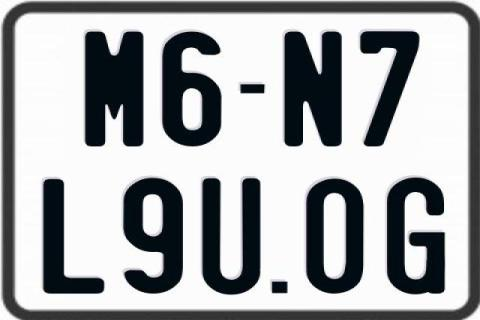0: (357, 32, 420, 152), (159, 29, 222, 148), (123, 176, 184, 294), (305, 178, 365, 296)
G: (387, 176, 450, 294)
L: (40, 177, 107, 295)
M: (82, 31, 143, 148)
N: (284, 29, 342, 149)
U: (200, 178, 264, 294)
